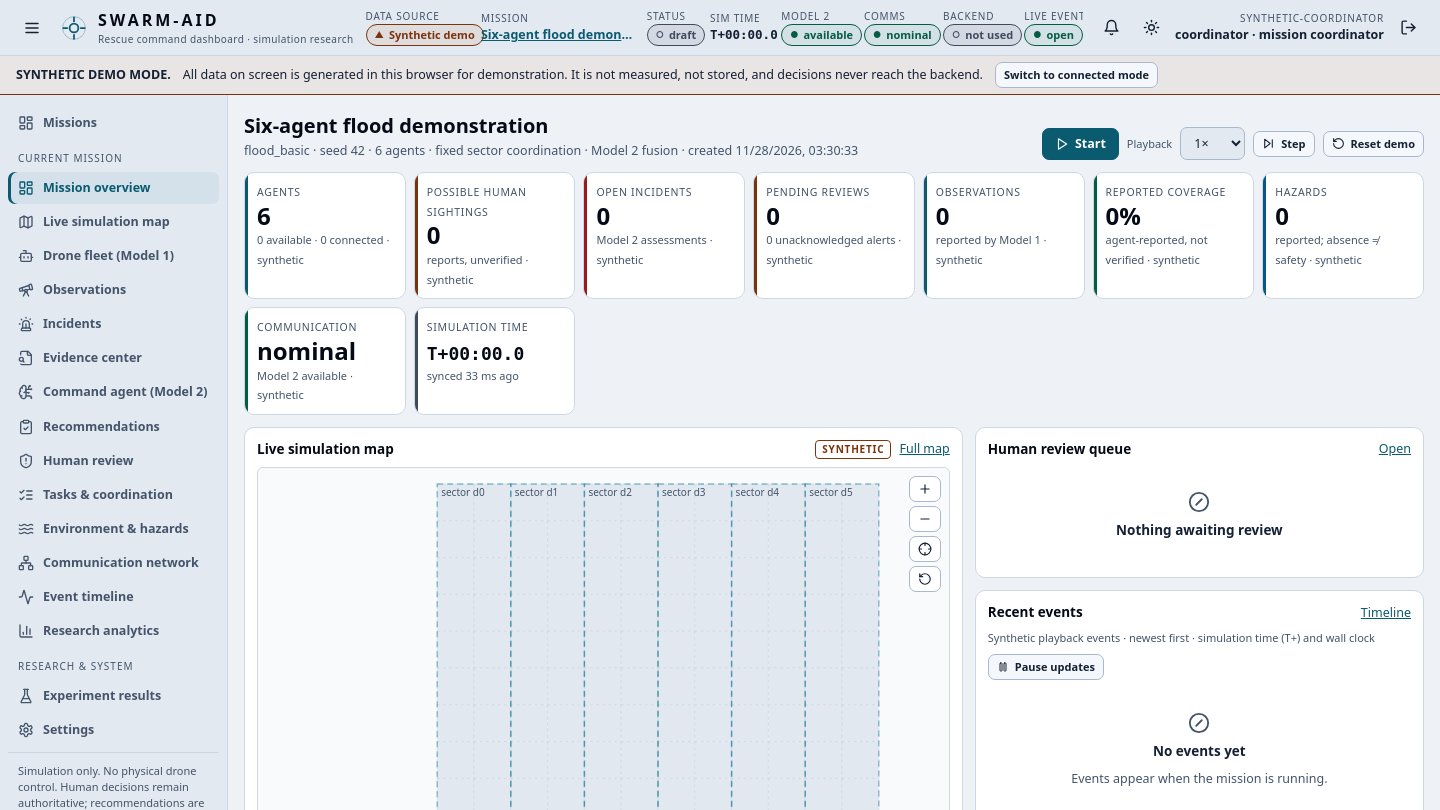
Test: synthetic demo mode › navigates between mission views from the sidebar
Click the link "Drone fleet (Model 1)".
click(96, 255)  # box [18,247,174,264]
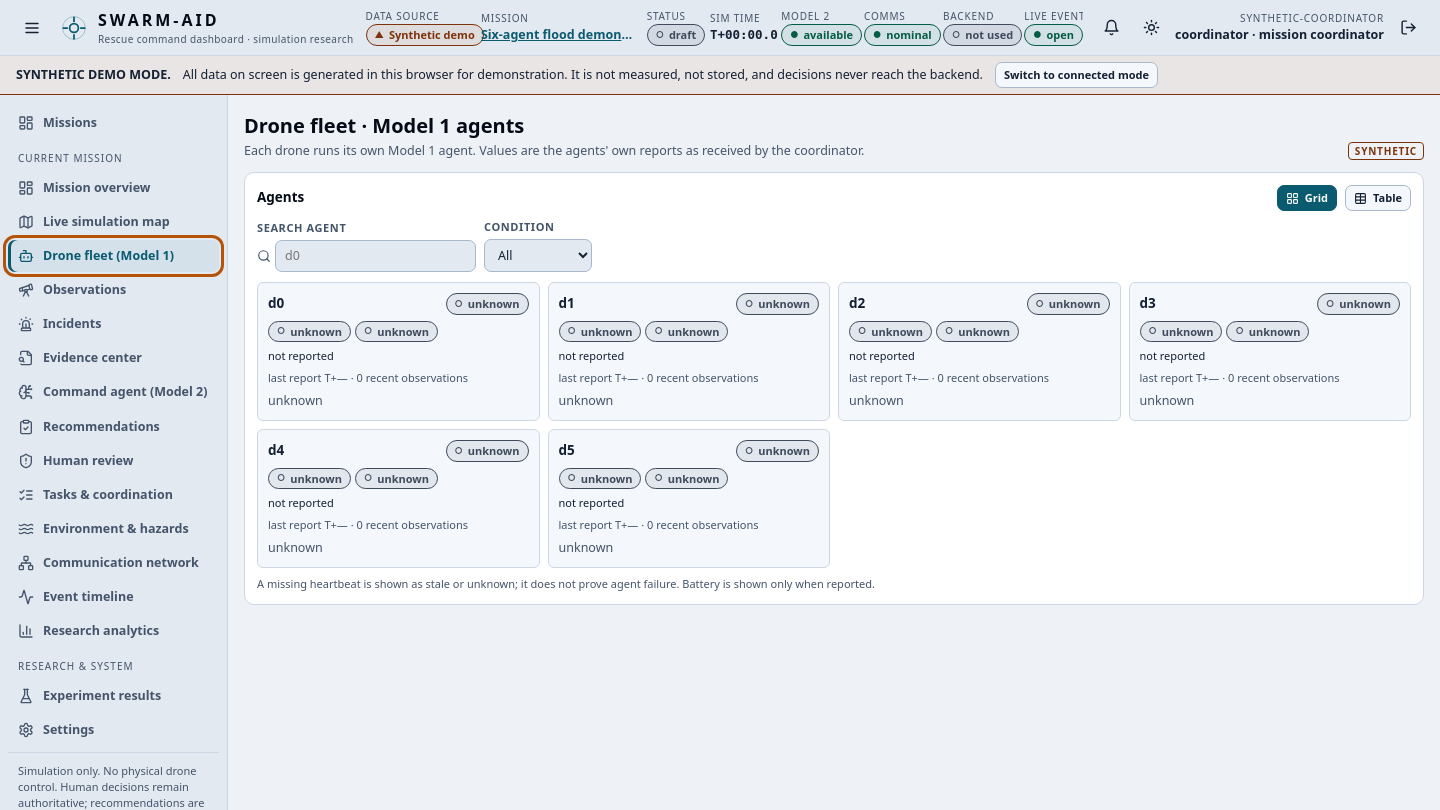
expect the heading "Drone fleet · Model 1 agents" is shown: met, box [244,112,524,139]
Click the link "Human review".
click(76, 460)  # box [18,452,133,469]
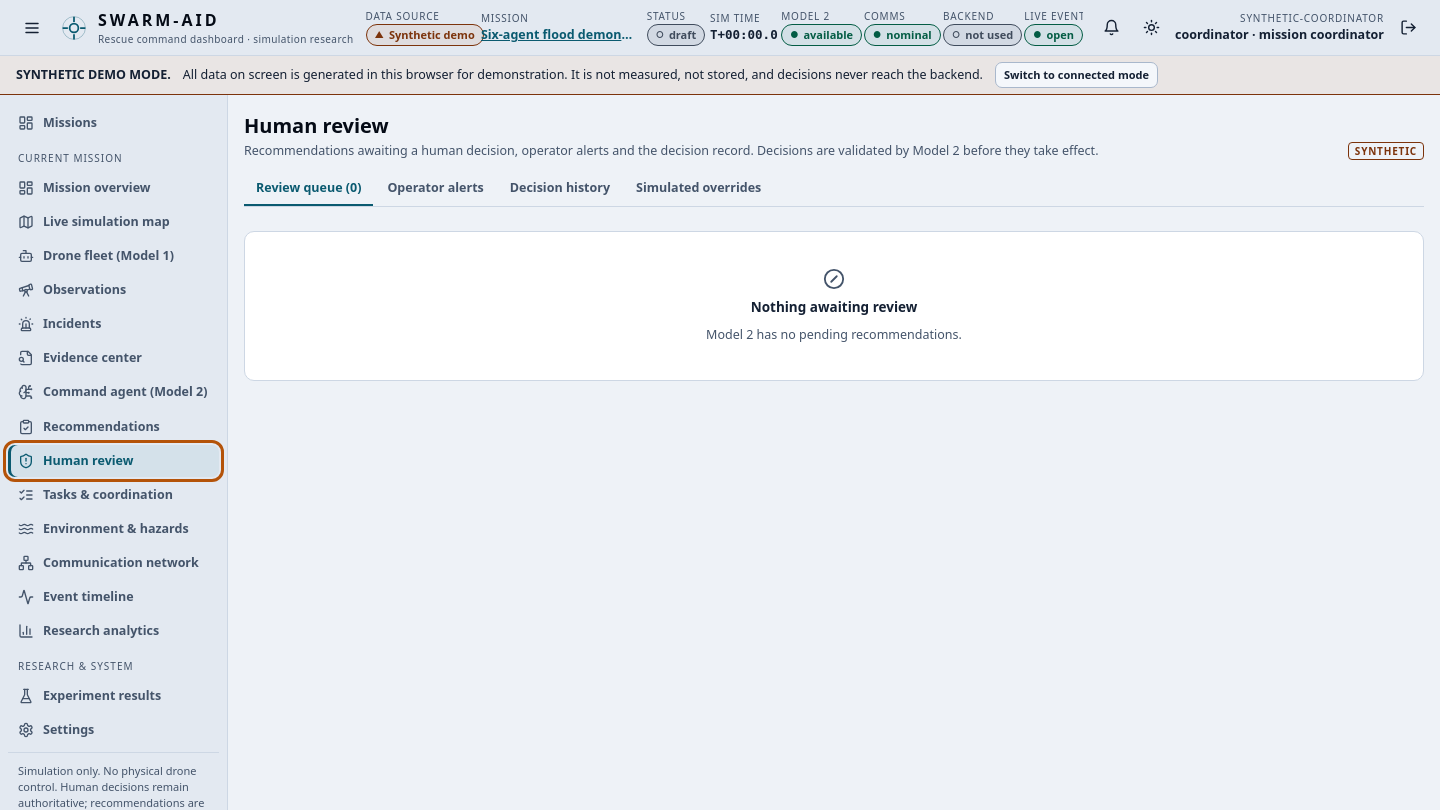
expect the heading "Human review" is shown: met, box [244,112,389,139]
